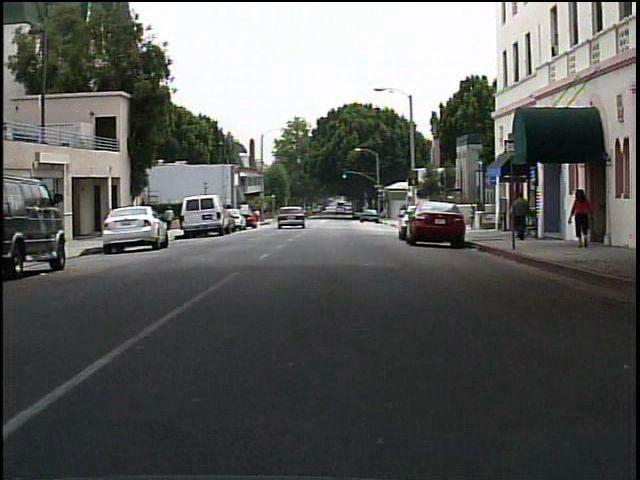person: (564, 189, 596, 248), (506, 190, 534, 242), (160, 202, 179, 234)
